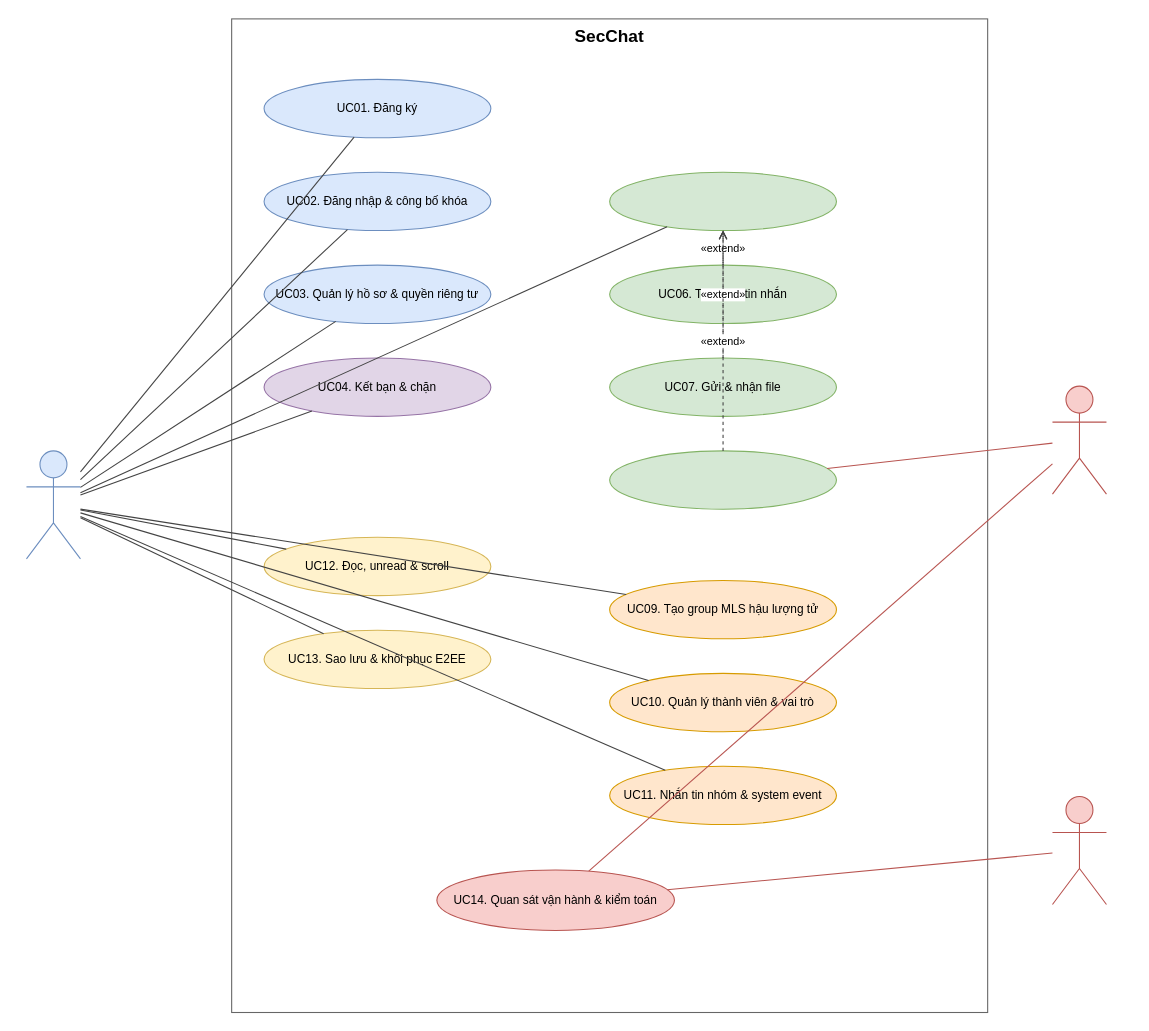
Image size: 1149x1031. Some labels were removed from this diagram. The box of each missing label's shape, as (x1, y1, x2, y2) in pixels:
Auditor: (1051, 385, 1106, 494)
Người dùng: (25, 450, 80, 559)
Quản trị vận hành: (1051, 795, 1106, 905)
UC05. Mở DM & gửi tin (E2EE): (609, 171, 836, 231)
UC08. Review identity: (609, 450, 836, 509)
